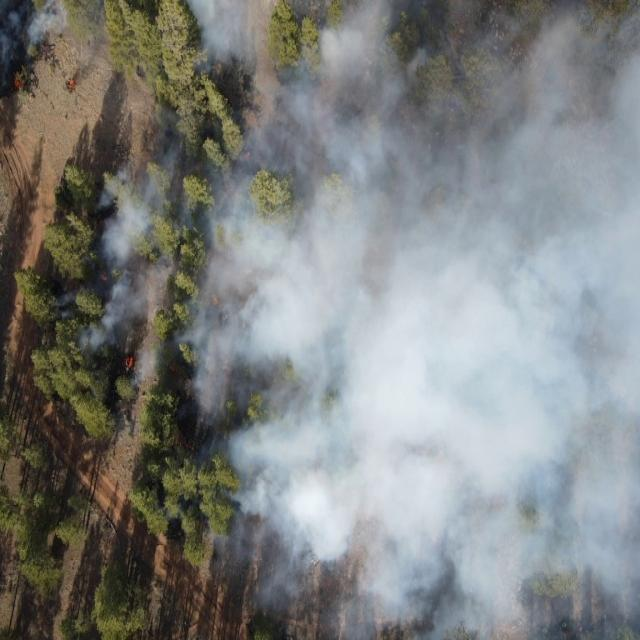fire: (94, 264, 110, 286), (120, 351, 136, 369), (62, 74, 77, 92), (11, 71, 21, 95), (246, 148, 252, 158)
smoke: (157, 0, 640, 624), (96, 150, 156, 450), (6, 2, 81, 98)
